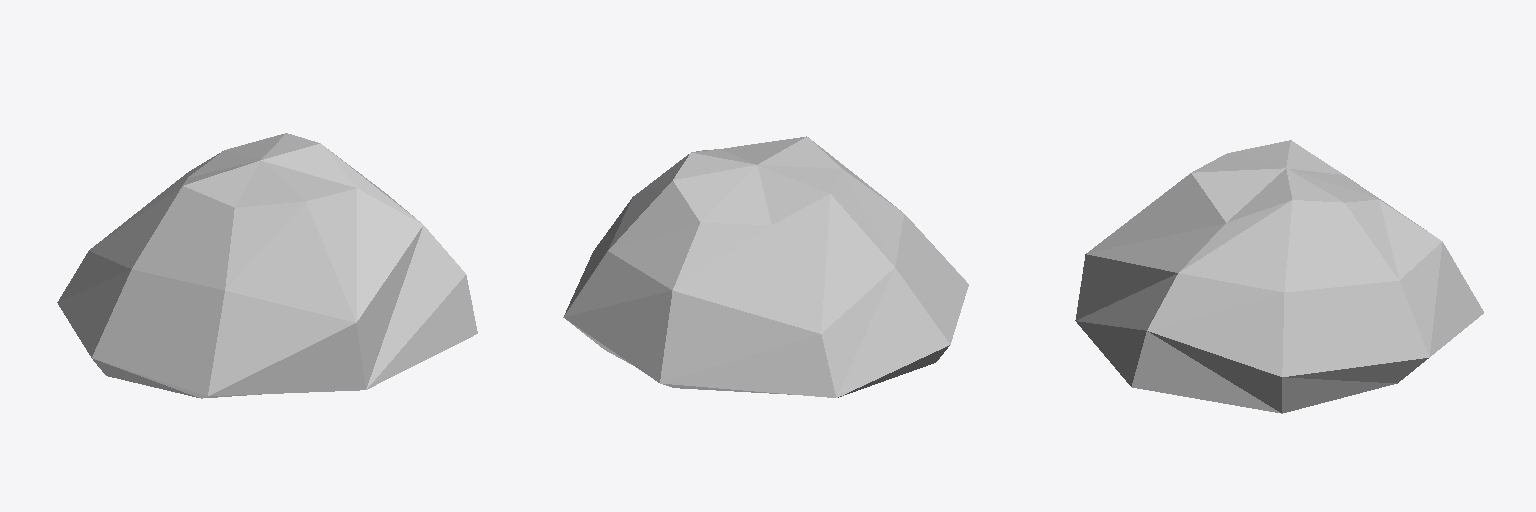
File: SmallRock03_collider.obj
The picture shows the model from 3 angles: view 1: azimuth 30°, elevation 25°; view 2: azimuth 150°, elevation 25°; view 3: azimuth 270°, elevation 25°; orthographic projection.
Visible parts, largest first — view 1: SmallRock03_collider SmallRock03 SmallRocks; view 2: SmallRock03_collider SmallRock03 SmallRocks; view 3: SmallRock03_collider SmallRock03 SmallRocks.
Boxes of the visible parts, x1,y1,x2,y2 form: SmallRock03_collider SmallRock03 SmallRocks: [57, 133, 477, 398]; SmallRock03_collider SmallRock03 SmallRocks: [563, 136, 968, 397]; SmallRock03_collider SmallRock03 SmallRocks: [1075, 140, 1483, 413].
Size of the model in its own units: 315 by 159 by 322.